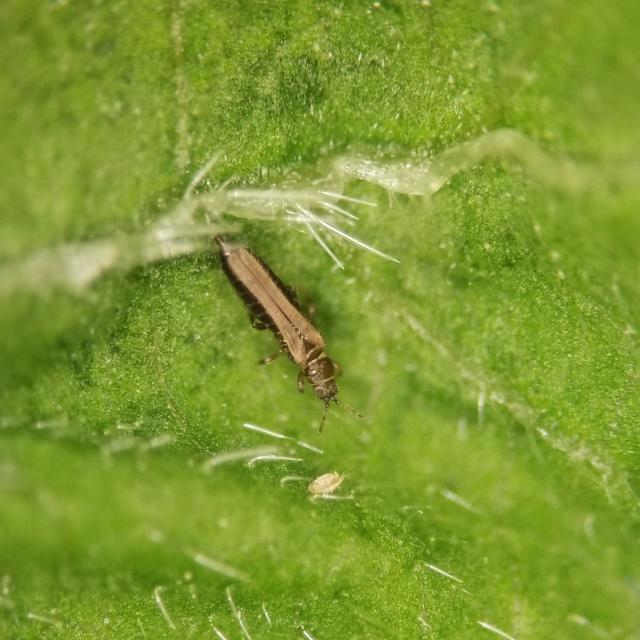Thrip-Adult-: (200, 224, 362, 426)
